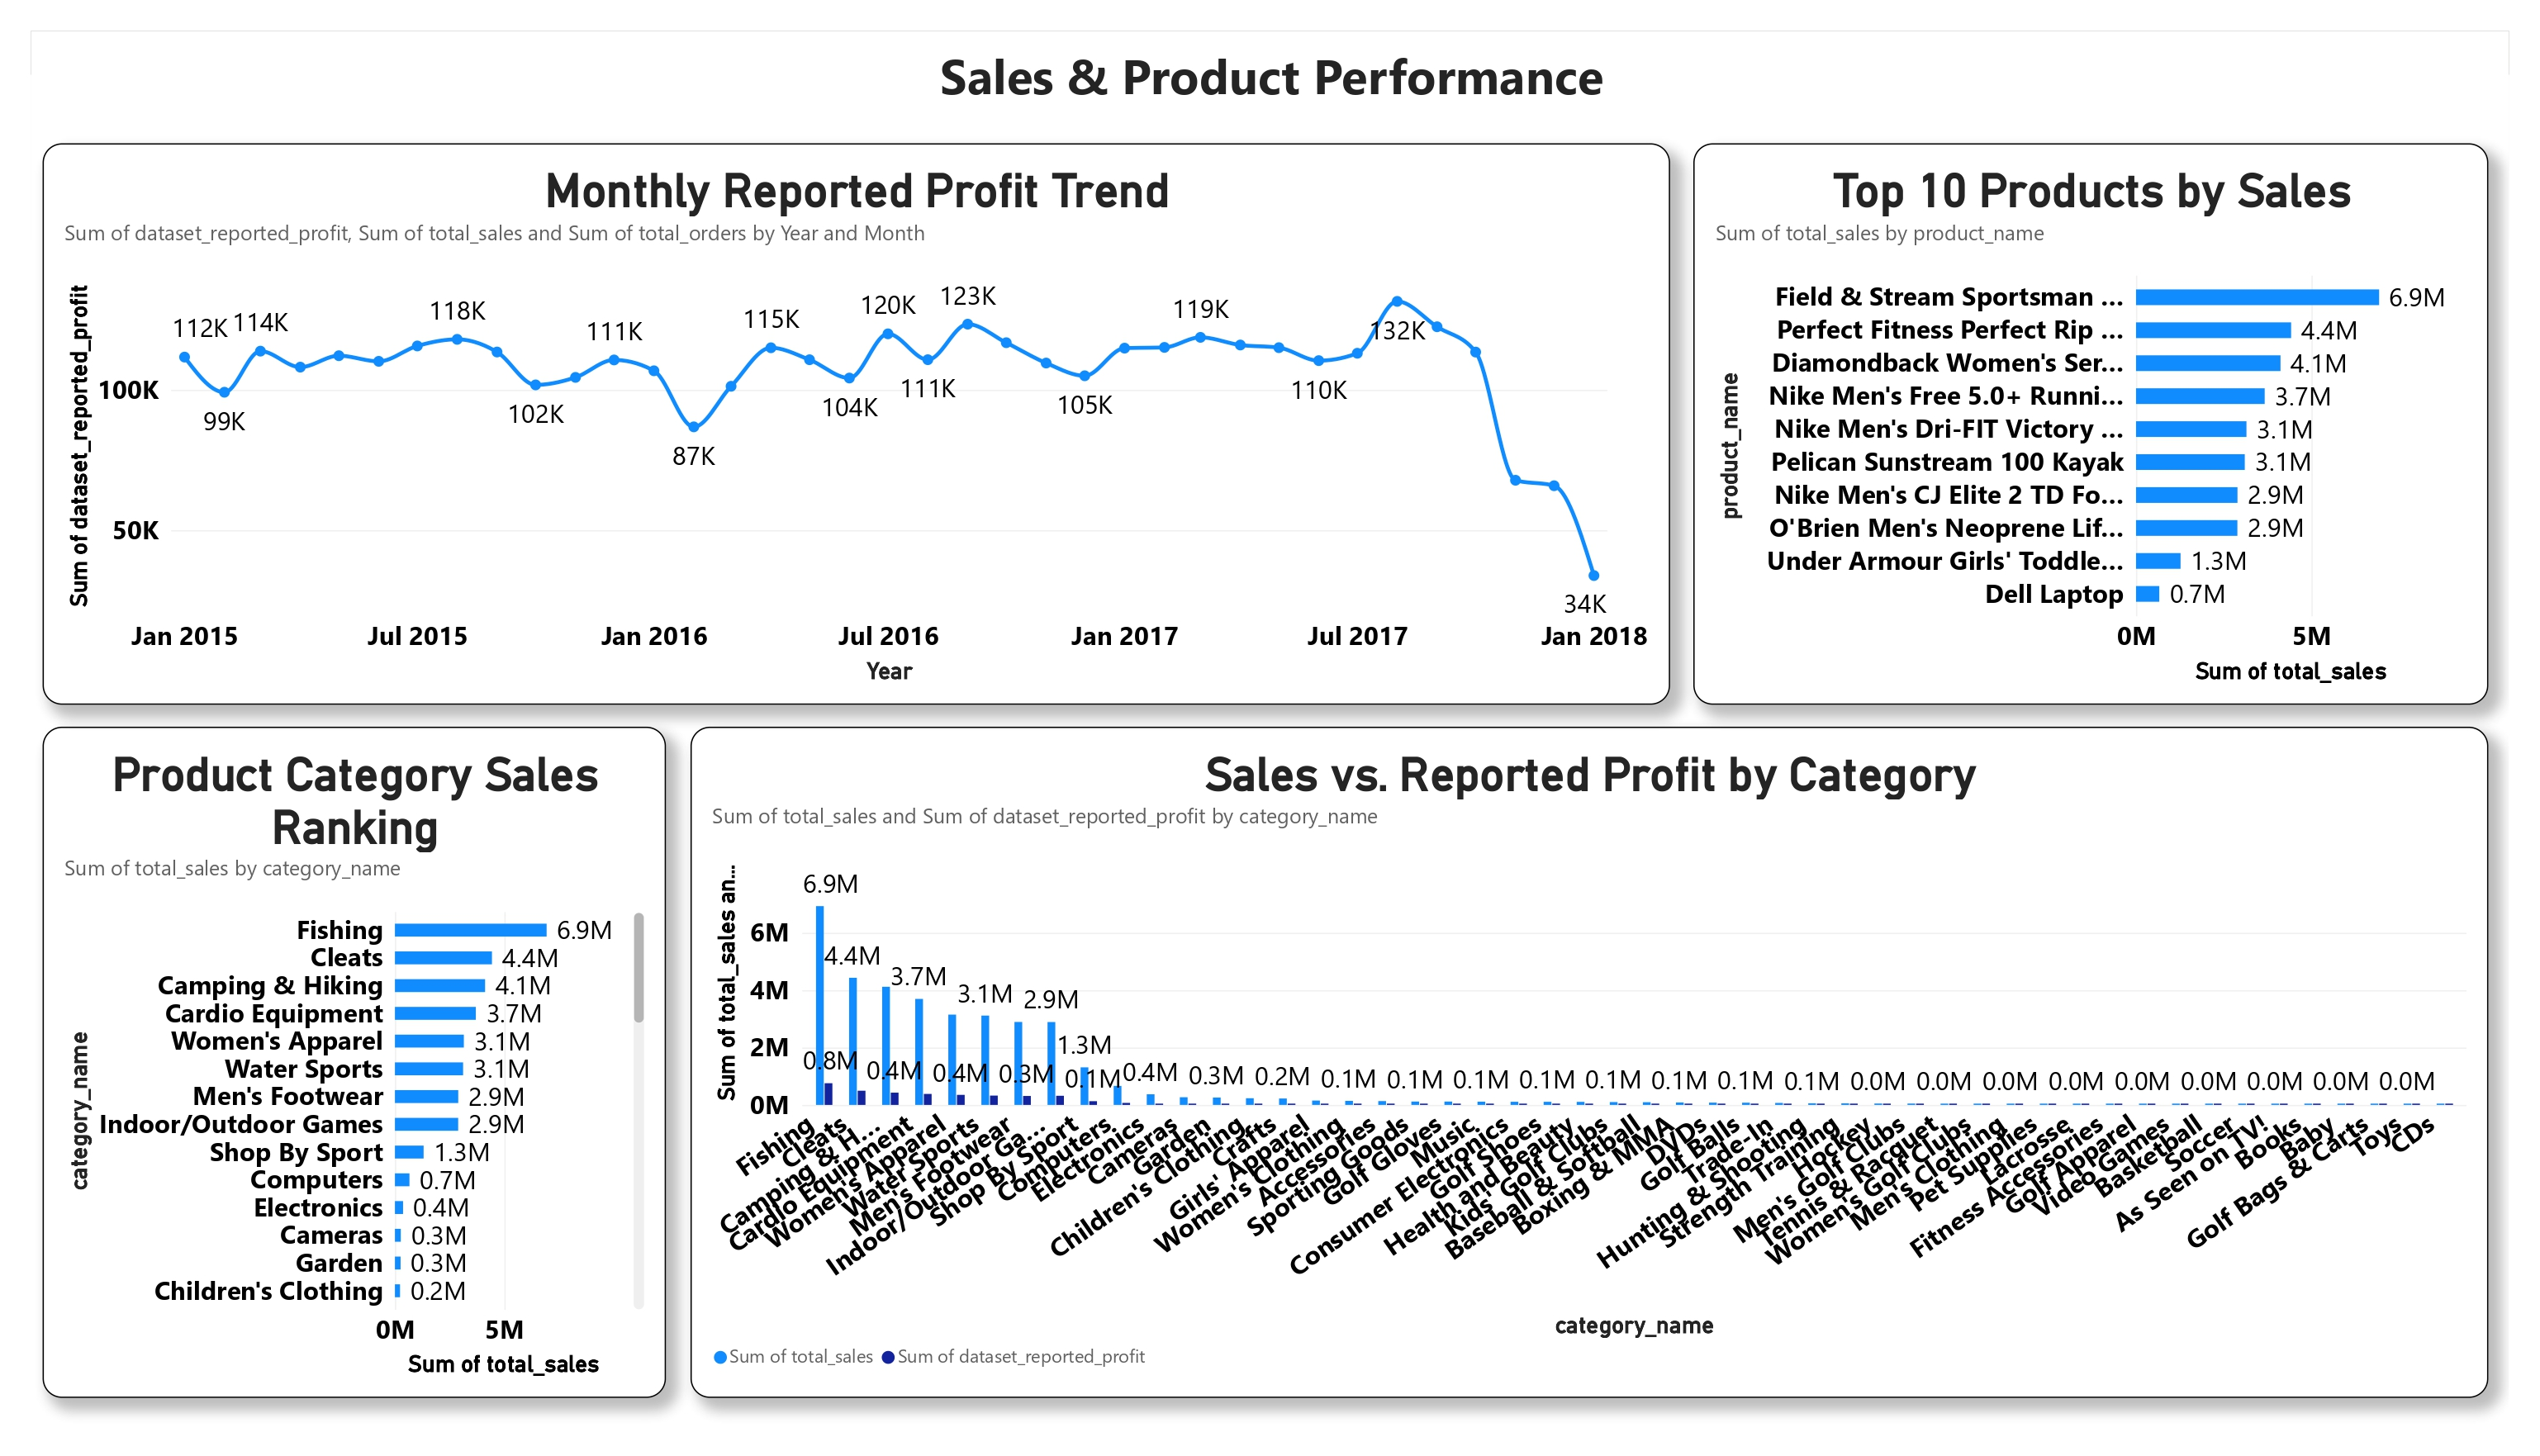

Layout of this report page (visuals, bound fields, positions):
{"tool":"powerbi","page":{"name":"Sales & Product Performance","canvas":[1920,1080],"ordinal":1},"visuals":[{"type":"textbox","box":[685.4,8.6,552.2,79.5],"z":0},{"type":"lineChart","title":"Monthly Reported Profit Trend","fields":{"Category":["mart vw_monthly_performance.order_month.Variation.Date Hierarchy.Year","mart vw_monthly_performance.order_month.Variation.Date Hierarchy.Month"],"Y":["Sum(mart vw_monthly_performance.dataset_reported_profit)"]},"box":[9,87.3,1260.8,434.5],"z":1000},{"type":"clusteredBarChart","title":"Top 10 Products by Sales","fields":{"Category":["mart vw_product_performance.product_name"],"Y":["Sum(mart vw_product_performance.total_sales)"]},"box":[1287.7,87.3,615.9,434.5],"z":2000},{"type":"clusteredColumnChart","title":"Sales vs. Reported Profit by Category","fields":{"Category":["mart vw_product_performance.category_name"],"Y":["Sum(mart vw_product_performance.total_sales)","Sum(mart vw_product_performance.dataset_reported_profit)"]},"box":[511.4,539.3,1392.3,520],"z":3000},{"type":"clusteredBarChart","title":"Product Category Sales Ranking","fields":{"Category":["mart vw_product_performance.category_name"],"Y":["Sum(mart vw_product_performance.total_sales)"]},"box":[8.6,539.3,483.7,519.6],"z":4000}]}

Visuals, with their boxes on the page's 1920x1080 design canvas (x1, y1, x2, y2). These are canvas units, not pixel positions in the 2540x1456 screenshot, which may show the page scaled, cropped or inside an application window:
textbox: bbox=(685, 9, 1238, 88)
"Monthly Reported Profit Trend" lineChart: bbox=(9, 87, 1270, 522)
"Top 10 Products by Sales" clusteredBarChart: bbox=(1288, 87, 1904, 522)
"Sales vs. Reported Profit by Category" clusteredColumnChart: bbox=(511, 539, 1904, 1059)
"Product Category Sales Ranking" clusteredBarChart: bbox=(9, 539, 492, 1059)
